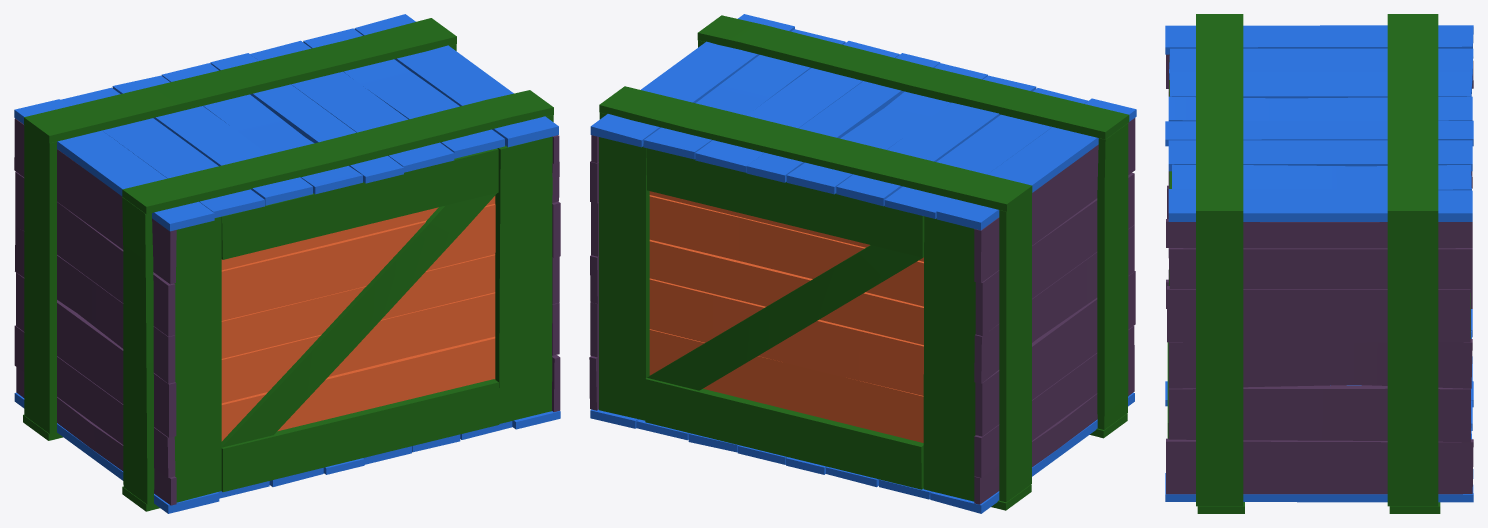
3 views of the same model, side by side, from view 1: azimuth 30°, elevation 25°; view 2: azimuth 150°, elevation 25°; view 3: azimuth 270°, elevation 25° (orthographic).
Visible parts, largest first — view 1: lp1, lp2, lp8, lp7, lp3, lp6, lp15, lp10; view 2: lp16, lp11, lp8, lp7, lp3, lp6, lp15, lp10, lp4; view 3: lp10, lp8, lp5, lp3, lp15, lp4, lp7.
Boxes of the visible parts, box(x1,y1,x2,y2) form: lp1: box(174, 136, 552, 502); lp2: box(221, 196, 495, 441); lp8: box(14, 14, 558, 231); lp7: box(14, 118, 176, 505); lp3: box(24, 18, 553, 214); lp6: box(24, 125, 154, 504); lp15: box(14, 392, 560, 513); lp10: box(552, 135, 560, 411); lp16: box(599, 137, 975, 501); lp11: box(649, 191, 923, 442); lp8: box(590, 14, 1136, 230); lp7: box(974, 118, 1135, 504); lp3: box(599, 15, 1129, 211); lp6: box(999, 123, 1128, 502); lp15: box(590, 392, 1134, 513); lp10: box(589, 135, 598, 410); lp4: box(991, 413, 1127, 510); lp10: box(1166, 219, 1473, 494); lp8: box(1165, 25, 1473, 221); lp5: box(1196, 218, 1438, 506); lp3: box(1196, 14, 1438, 218); lp15: box(1165, 309, 1473, 502); lp4: box(1197, 502, 1440, 513); lp7: box(1166, 54, 1473, 308).
Size of the model in its own units: 27.17 by 19.52 by 17.97.
